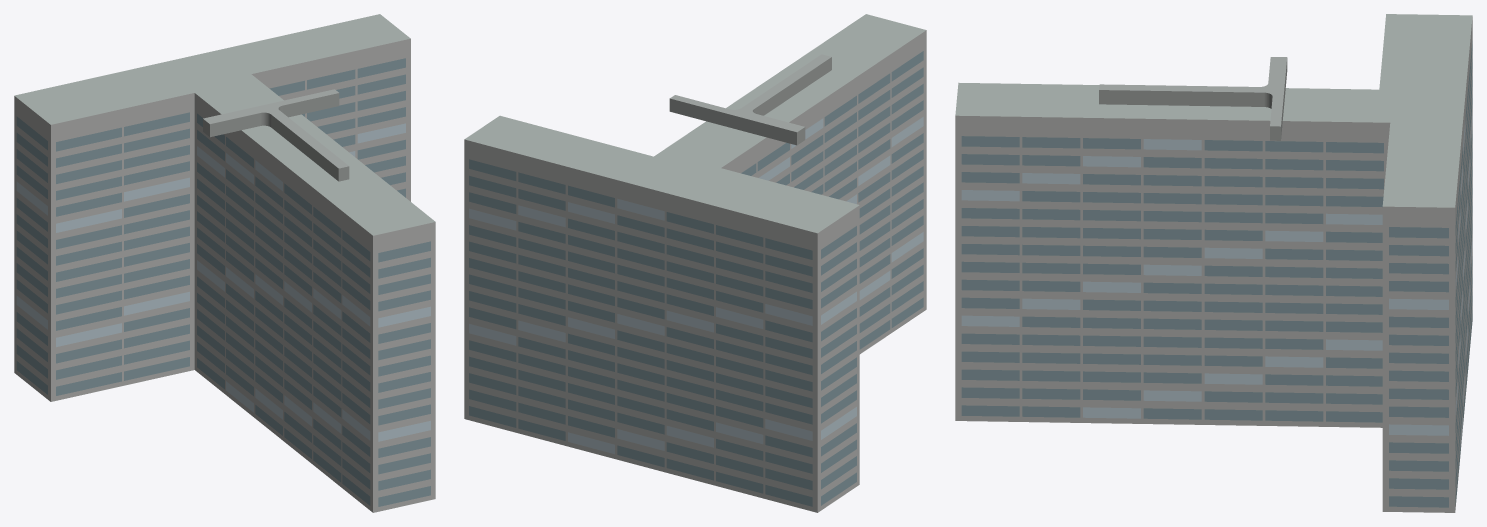
The model's file is apt-a15384101.glb.
3 renders of one model, left to right at view 1: azimuth 30°, elevation 25°; view 2: azimuth 150°, elevation 25°; view 3: azimuth 270°, elevation 25°, orthographic. The views are drawn at different scales.
Visible parts, largest first — view 1: apt-a15384101; view 2: apt-a15384101; view 3: apt-a15384101.
Boxes of the visible parts, left/top/right/bottom form: apt-a15384101: left=14, top=14, right=435, bottom=512; apt-a15384101: left=464, top=14, right=926, bottom=512; apt-a15384101: left=955, top=14, right=1472, bottom=512.
Size of the model in its own units: 61.14 by 47 by 68.97.
